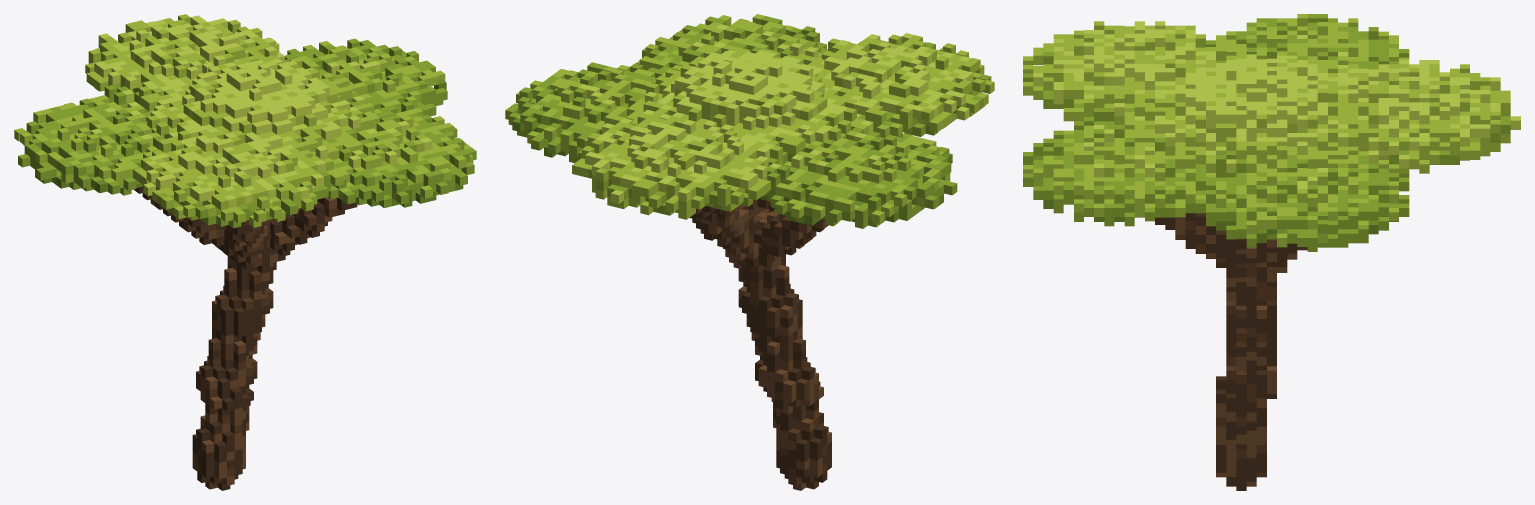
The model's file is arbre-acacia.glb.
The picture shows the model from 3 angles, left to right: view 1: azimuth 30°, elevation 25°; view 2: azimuth 150°, elevation 25°; view 3: azimuth 270°, elevation 25°; orthographic projection. The views are drawn at different scales.
Visible parts, largest first — view 1: arbre-acacia; view 2: arbre-acacia; view 3: arbre-acacia.
Boxes of the visible parts, bbox=[...] form: arbre-acacia: bbox=[14, 14, 476, 490]; arbre-acacia: bbox=[505, 14, 994, 490]; arbre-acacia: bbox=[1023, 14, 1520, 490].
Bounding box in the file's own units: 6.38 × 5.88 × 6.12.
